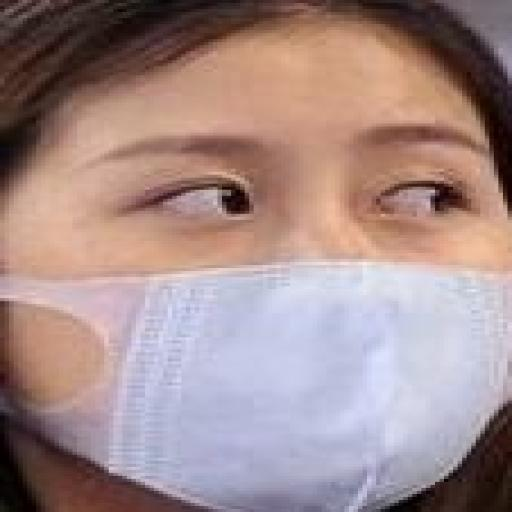mask: (0, 123, 512, 512)
